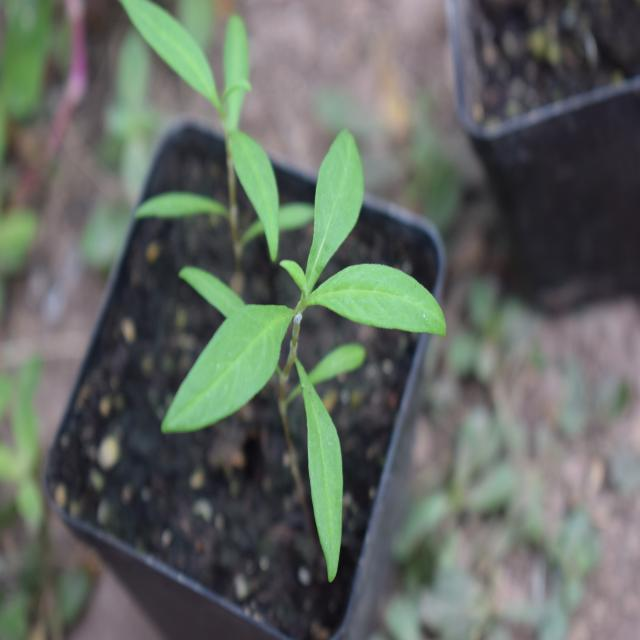white_smart_weed: (191, 142, 460, 584)
